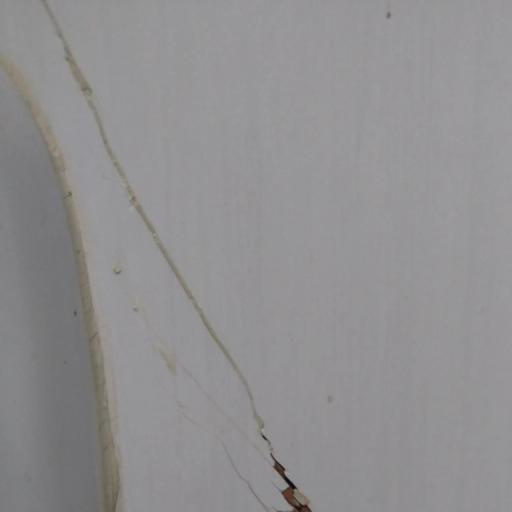minor_crack: (12, 0, 326, 512)
